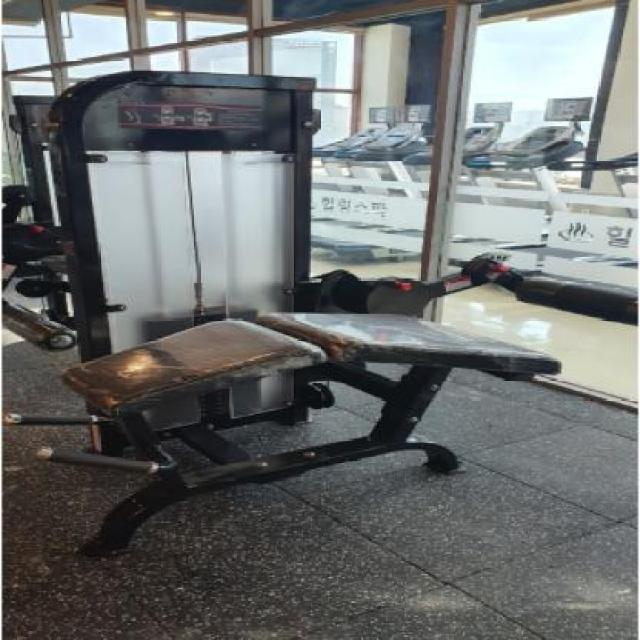reg curl machine: (1, 62, 640, 575)
